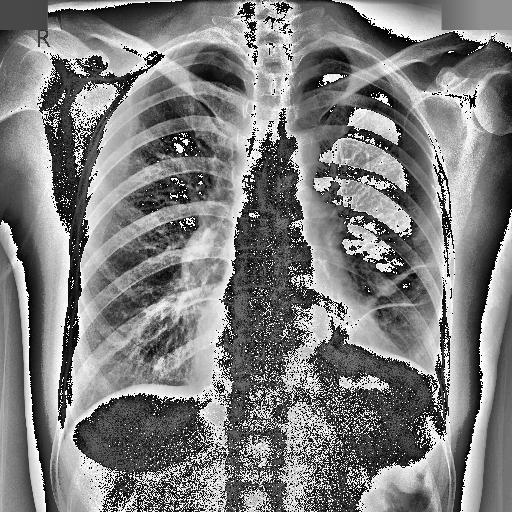10- Pleural effusion: (306, 330, 452, 418), (422, 356, 444, 396)
11- Pleural thickening: (422, 356, 444, 396)
13- Pulmonary fibrosis: (346, 256, 447, 328), (344, 262, 440, 334), (322, 303, 413, 354), (363, 255, 441, 307)
3- Cardiomegaly: (190, 312, 400, 408)
